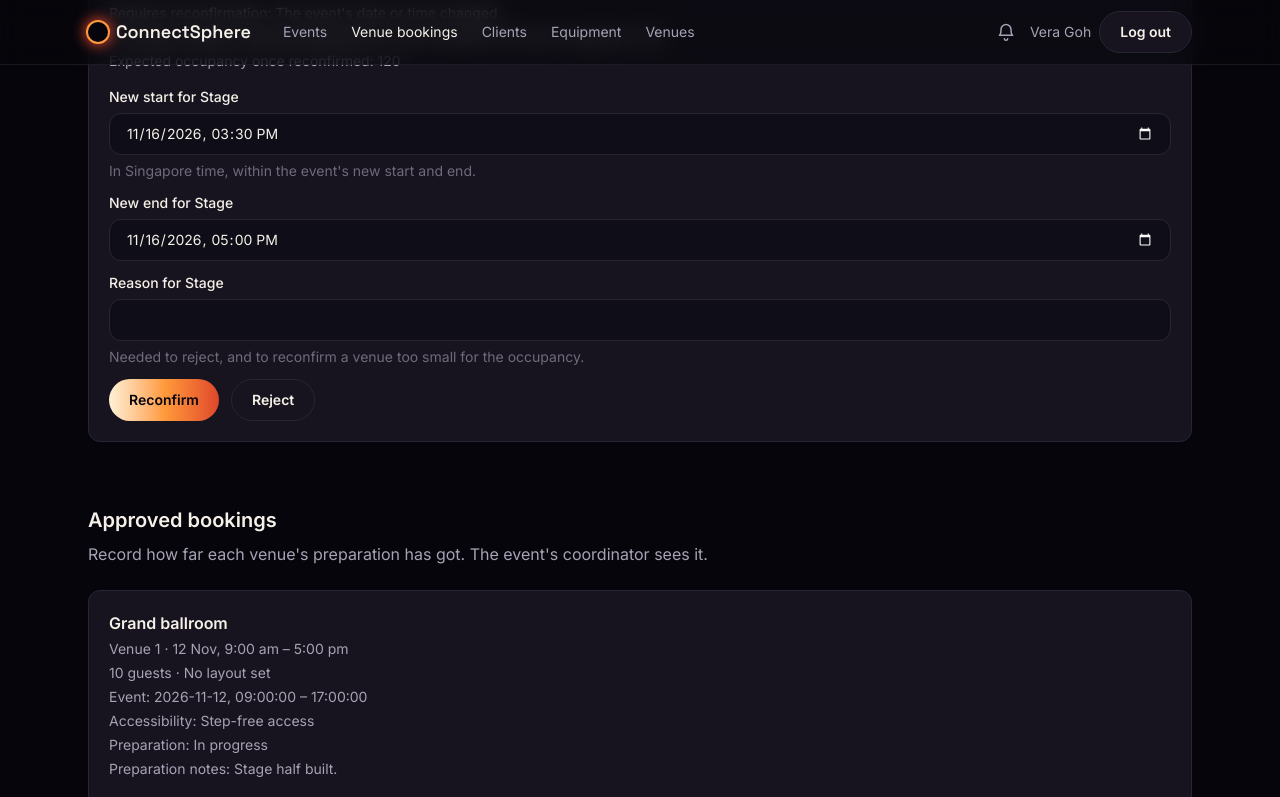
Test case: SCRUM-59 flagged bookings on the venue booking page › shows the backend's field error under its field, and not again as an alert
(page scrolled)
Click the button with aria-label "Reconfirm Stage": (164, 400) x1=109 y1=379 x2=219 y2=421
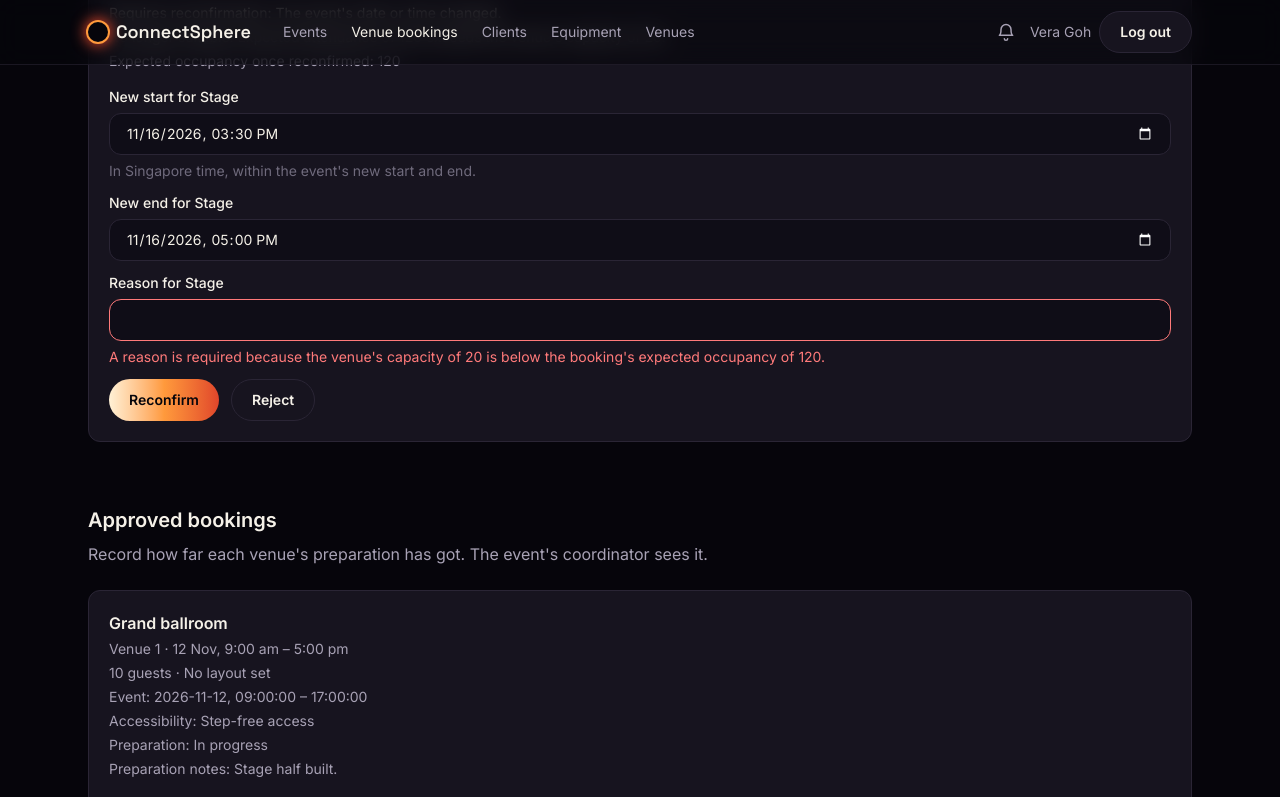
Now the list item "A reason is required because the venue's capacity of 20 is below the booking's expected occupancy of 120." is shown, box x1=109 y1=348 x2=825 y2=365
